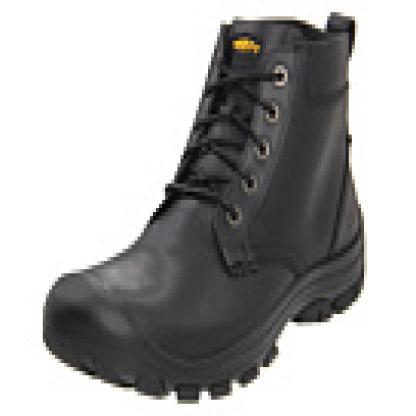bota: (37, 16, 370, 399)
